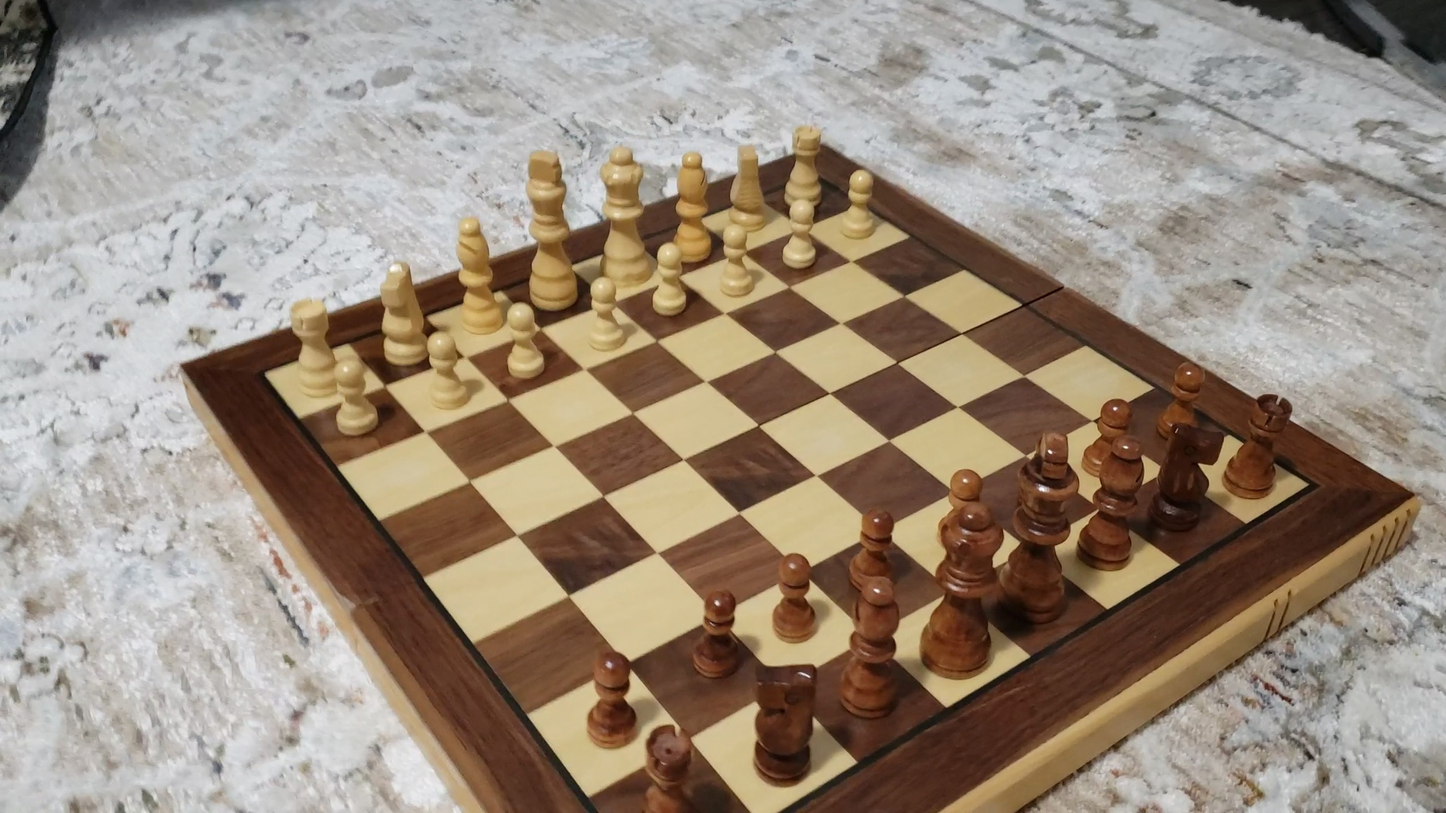black-bishop: (1079, 435, 1150, 571), (840, 565, 901, 719)
black-king: (998, 429, 1084, 624)
black-knight: (1147, 417, 1227, 534), (748, 659, 818, 786)
black-pawn: (585, 646, 637, 750), (690, 587, 745, 682), (770, 549, 819, 645), (847, 503, 899, 593), (1156, 358, 1208, 446), (1082, 396, 1135, 480), (937, 464, 988, 550)
black-queen: (918, 508, 1006, 681)
black-rook: (1223, 392, 1294, 500), (629, 718, 707, 808)
white-bishop: (452, 209, 501, 336), (672, 147, 712, 265)
white-king: (522, 143, 577, 314)
white-knight: (377, 259, 428, 369), (729, 137, 767, 232)
white-pawn: (328, 356, 383, 442), (420, 329, 473, 414), (499, 299, 551, 384), (580, 273, 633, 356), (710, 218, 760, 303), (834, 164, 884, 246), (644, 239, 693, 322), (776, 193, 823, 276)
white-queen: (598, 141, 651, 289)
white-rook: (289, 296, 338, 399), (789, 119, 825, 216)
